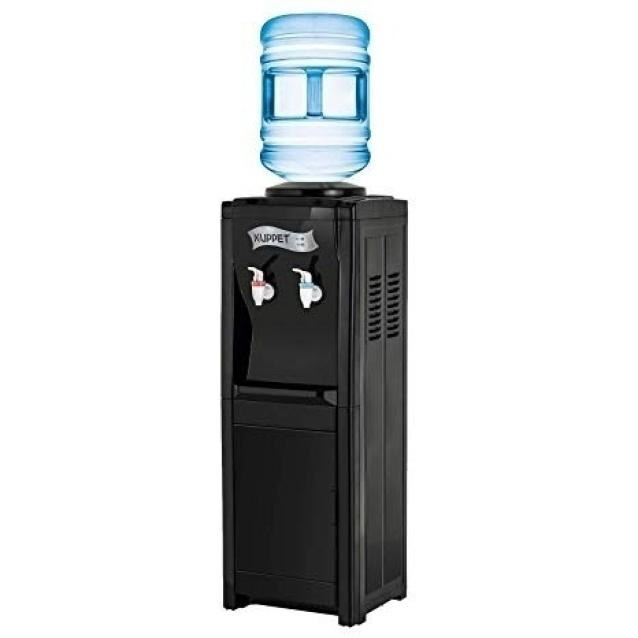Dispenser: (219, 13, 407, 626)
